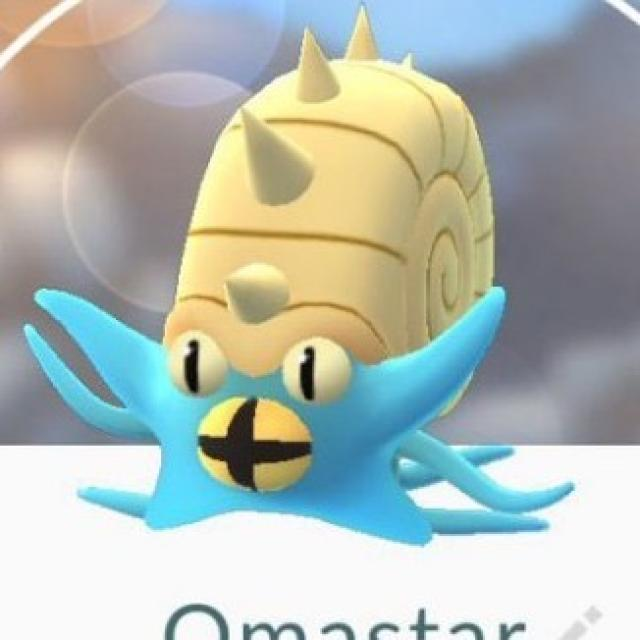Omastar: (148, 34, 504, 536)
